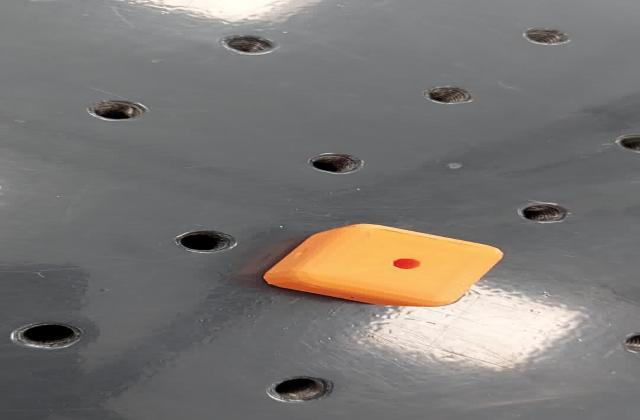cube: (259, 224, 504, 311)
